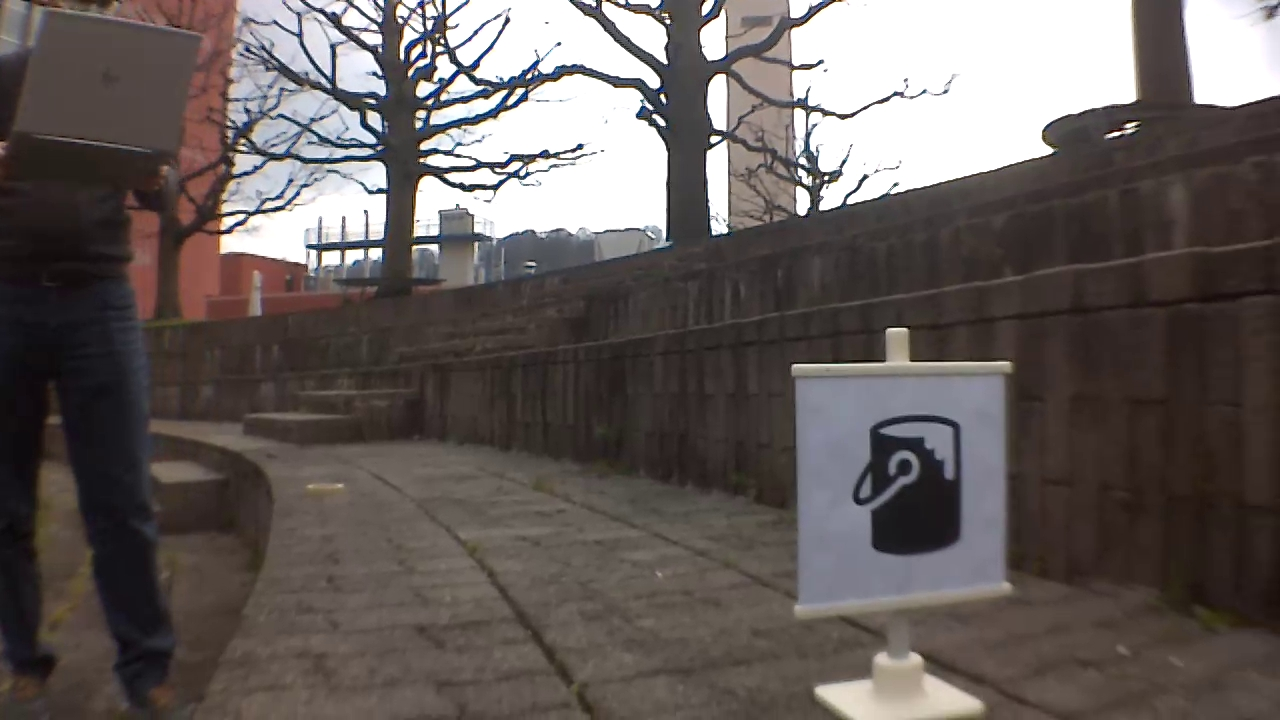bucket: (851, 416, 959, 560)
